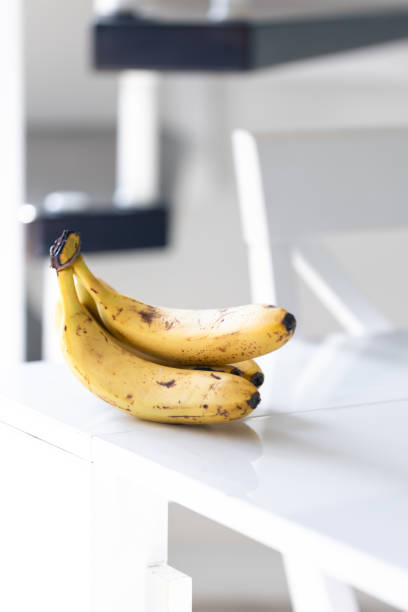banana: (41, 225, 299, 431)
